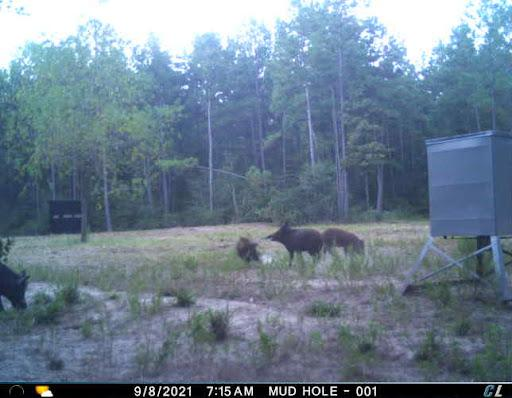Hog: (260, 218, 326, 270), (0, 261, 33, 320), (324, 223, 374, 261), (234, 238, 263, 270)
